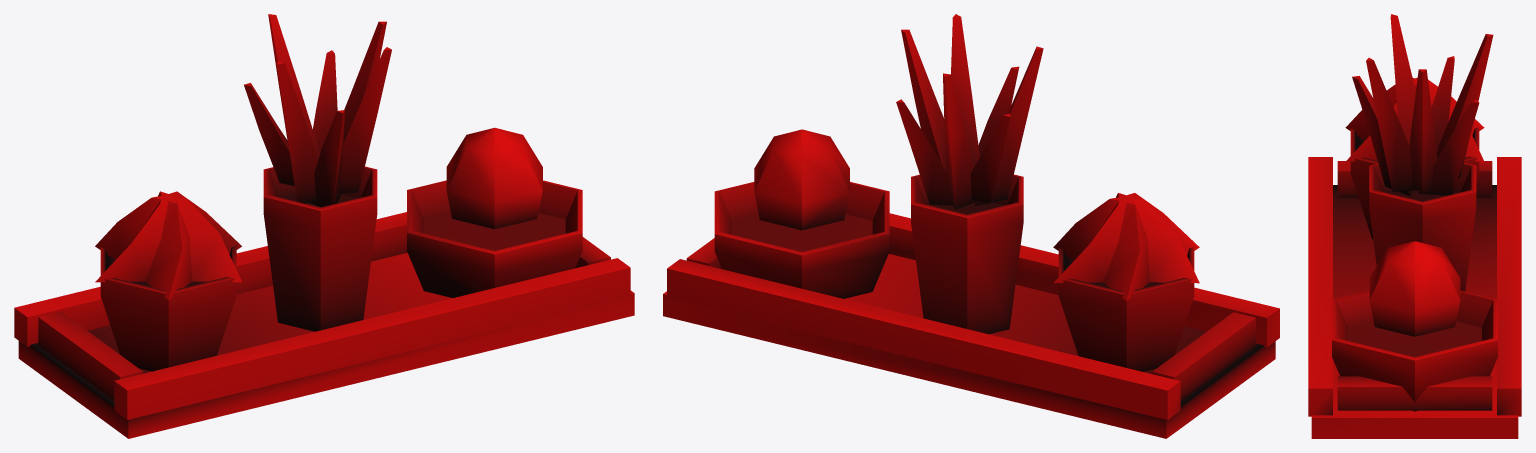
The model's file is CI_Decor_Plant_SucculentTrio.glb.
3 renders of one model, left to right at view 1: azimuth 30°, elevation 25°; view 2: azimuth 150°, elevation 25°; view 3: azimuth 270°, elevation 25°, orthographic. The views are drawn at different scales.
Visible parts, largest first — view 1: CI_Decor_Plant_SucculentTrio; view 2: CI_Decor_Plant_SucculentTrio; view 3: CI_Decor_Plant_SucculentTrio.
Part boxes in pixels (box(x1,y1,x2,y2)): CI_Decor_Plant_SucculentTrio: box(14, 14, 634, 438); CI_Decor_Plant_SucculentTrio: box(663, 14, 1279, 438); CI_Decor_Plant_SucculentTrio: box(1308, 14, 1521, 438).
Size of the model in its own units: 0.361 by 0.2 by 0.138.
